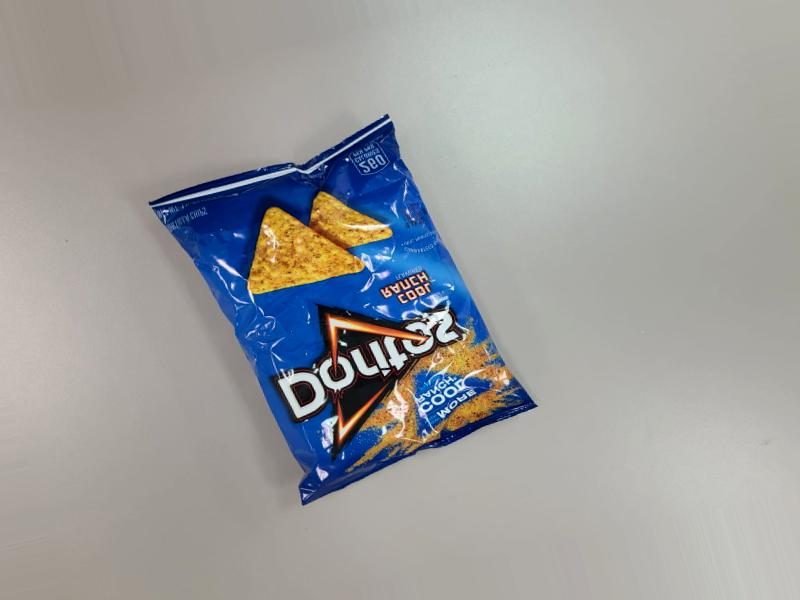doritos: (152, 103, 521, 511)
